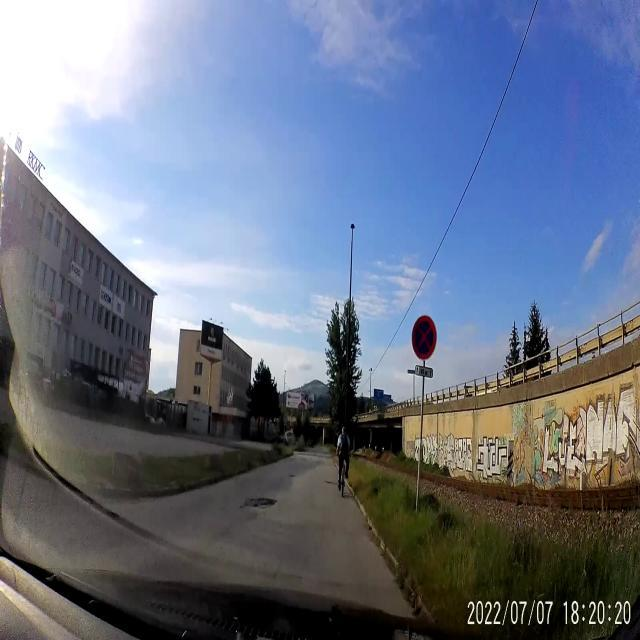Pothole: (240, 492, 276, 514), (323, 476, 338, 486), (288, 472, 297, 479)
